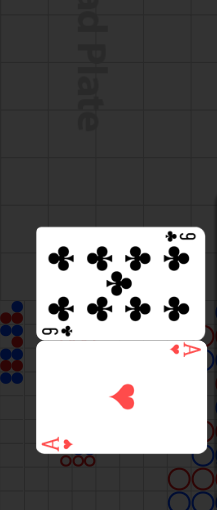9C: (162, 230, 197, 244)
AH: (41, 435, 76, 452)
